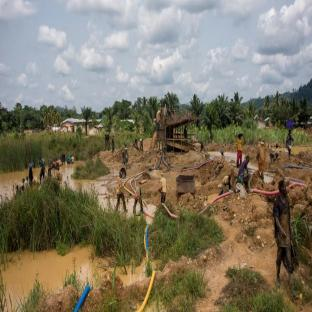Person: (274, 174, 300, 289), (114, 167, 127, 214), (218, 171, 234, 199), (285, 125, 297, 162), (237, 154, 250, 188), (133, 184, 146, 217)
ProcessingEquipment: (156, 109, 202, 157)
